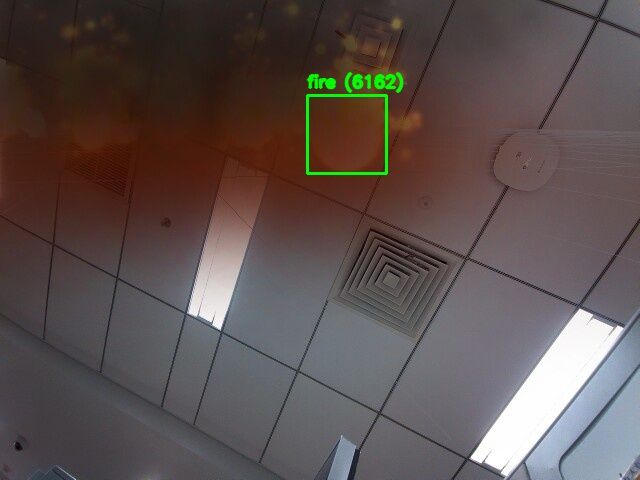fire: (307, 95, 386, 173)
